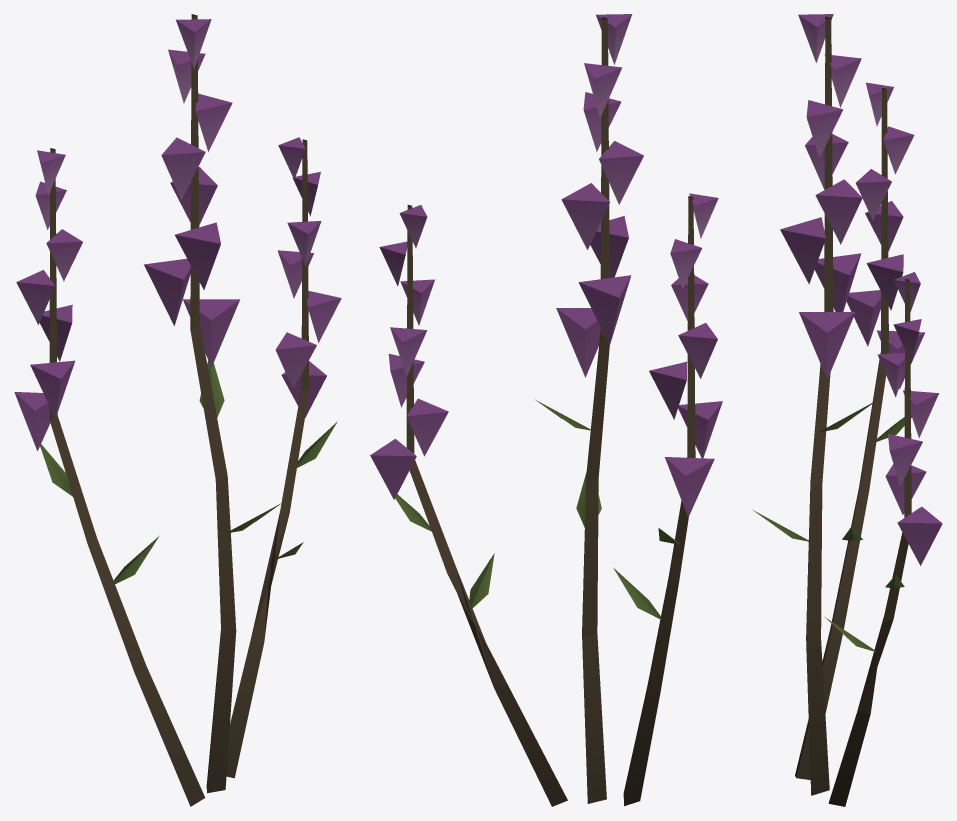
The model's file is flower-heather.glb.
The picture shows the model from 3 angles, left to right: view 1: azimuth 30°, elevation 25°; view 2: azimuth 150°, elevation 25°; view 3: azimuth 270°, elevation 25°; orthographic projection. The views are drawn at different scales.
Visible parts, largest first — view 1: heather; view 2: heather; view 3: heather.
Part boxes in pixels (x1,y1,x2,y2): heather: (14, 14, 341, 806); heather: (370, 14, 722, 806); heather: (753, 14, 942, 806).
Bounding box in the file's own units: 2.27 × 5.2 × 1.17.
